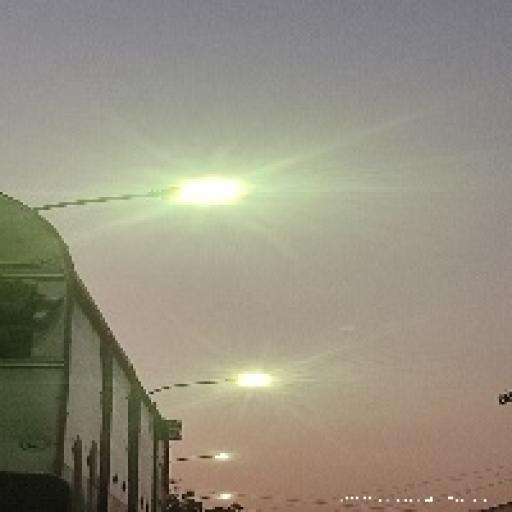Working: (162, 166, 268, 220), (223, 366, 280, 398), (202, 447, 237, 467), (210, 488, 236, 506)
